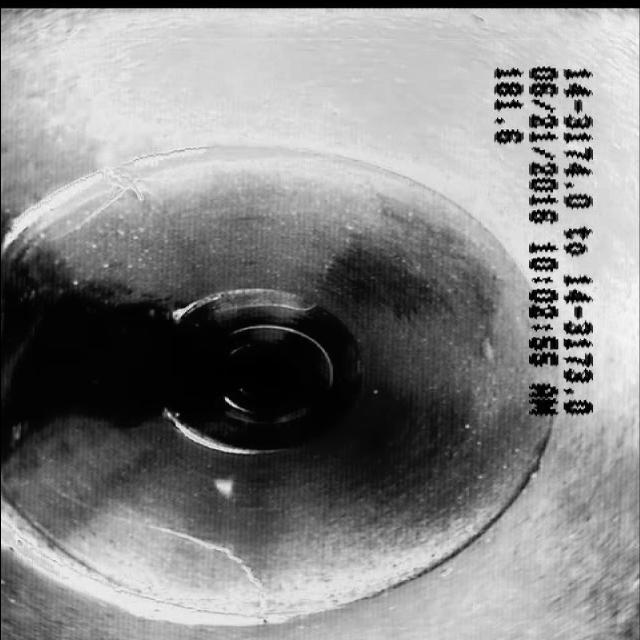Crack: (71, 482, 291, 611)
